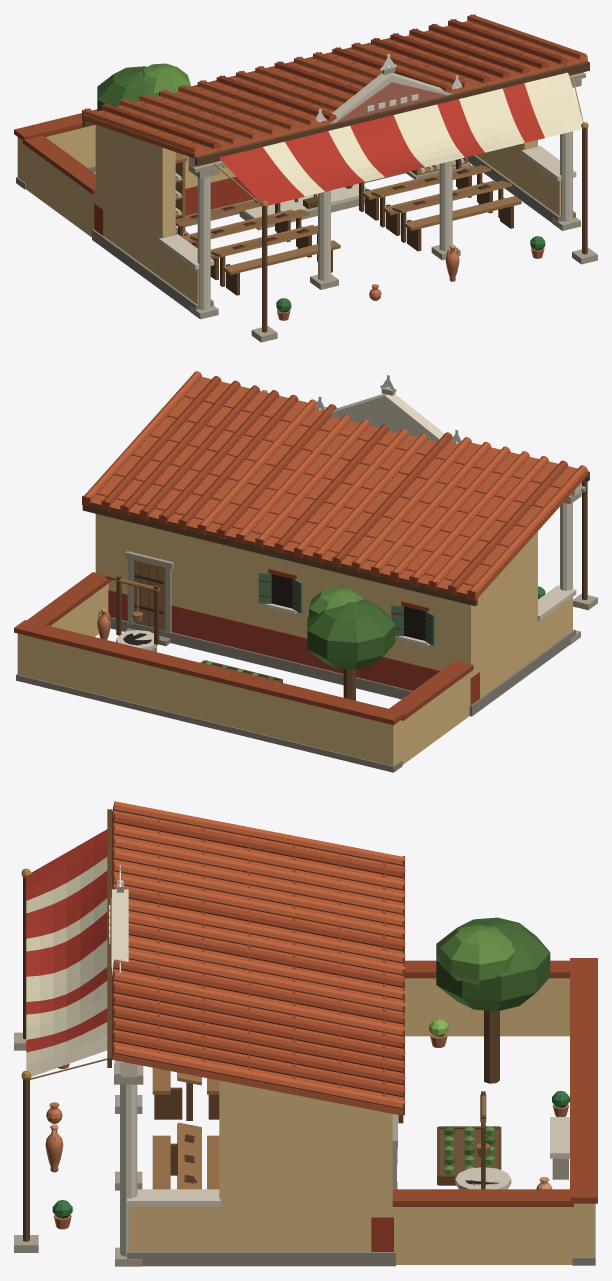
File: Schreibschule.fbx
3 views of the same model, one above another, from view 1: azimuth 30°, elevation 25°; view 2: azimuth 150°, elevation 25°; view 3: azimuth 270°, elevation 25° (orthographic). The views are drawn at different scales.
Visible parts, largest first — view 1: Schreibschule_0; view 2: Schreibschule_0; view 3: Schreibschule_0.
Part boxes in pixels (x1,y1,x2,y2): Schreibschule_0: (14, 14, 597, 342); Schreibschule_0: (14, 371, 597, 772); Schreibschule_0: (14, 801, 597, 1266).
Size of the model in its own units: 3.56 by 1.89 by 3.54.
